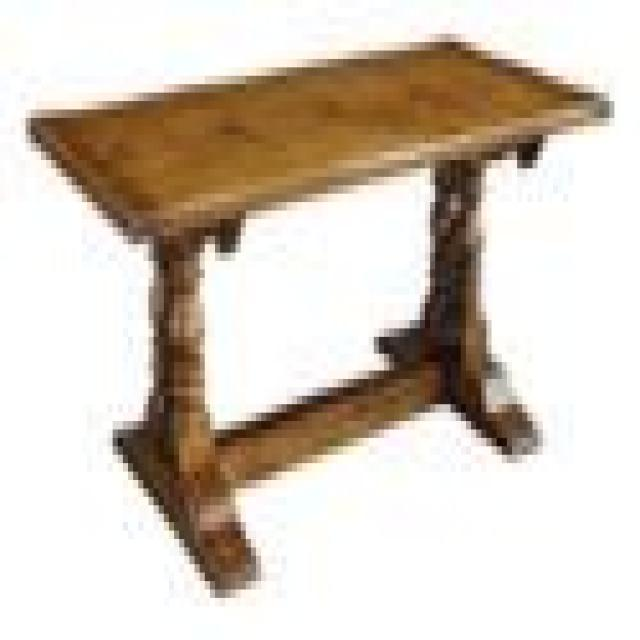table: (22, 25, 614, 602)
